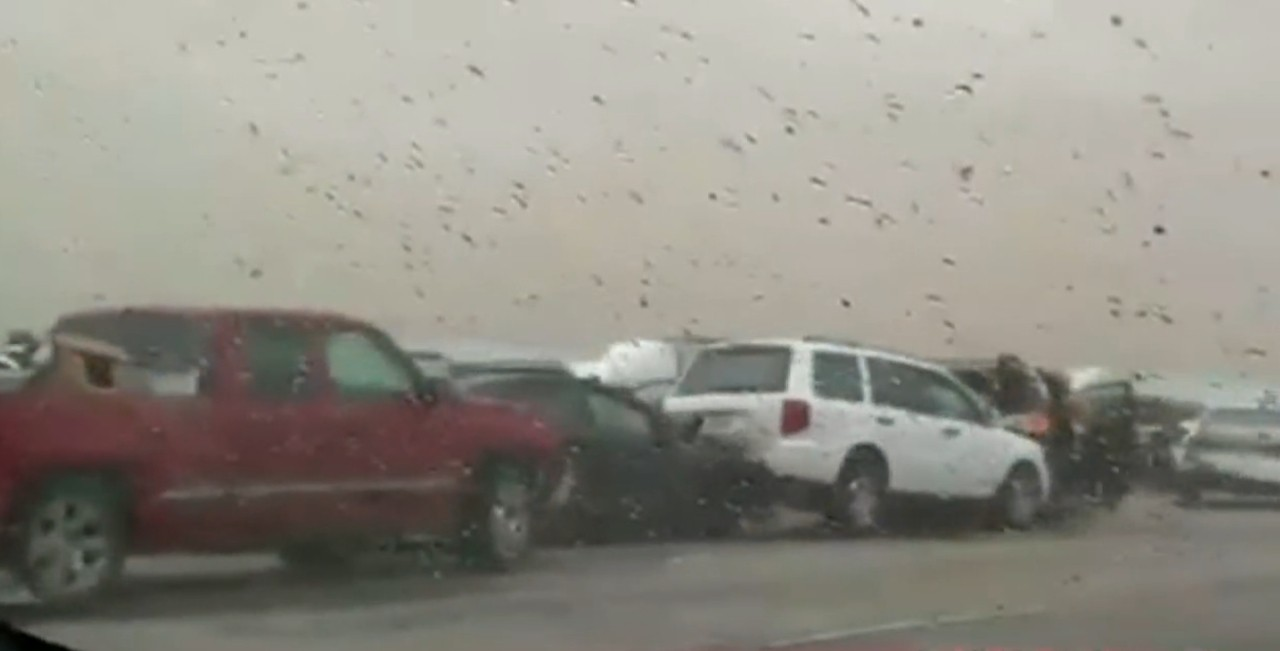car: (0, 304, 573, 603), (655, 337, 1056, 535), (425, 361, 733, 546), (964, 347, 1139, 522), (1168, 395, 1279, 511)
